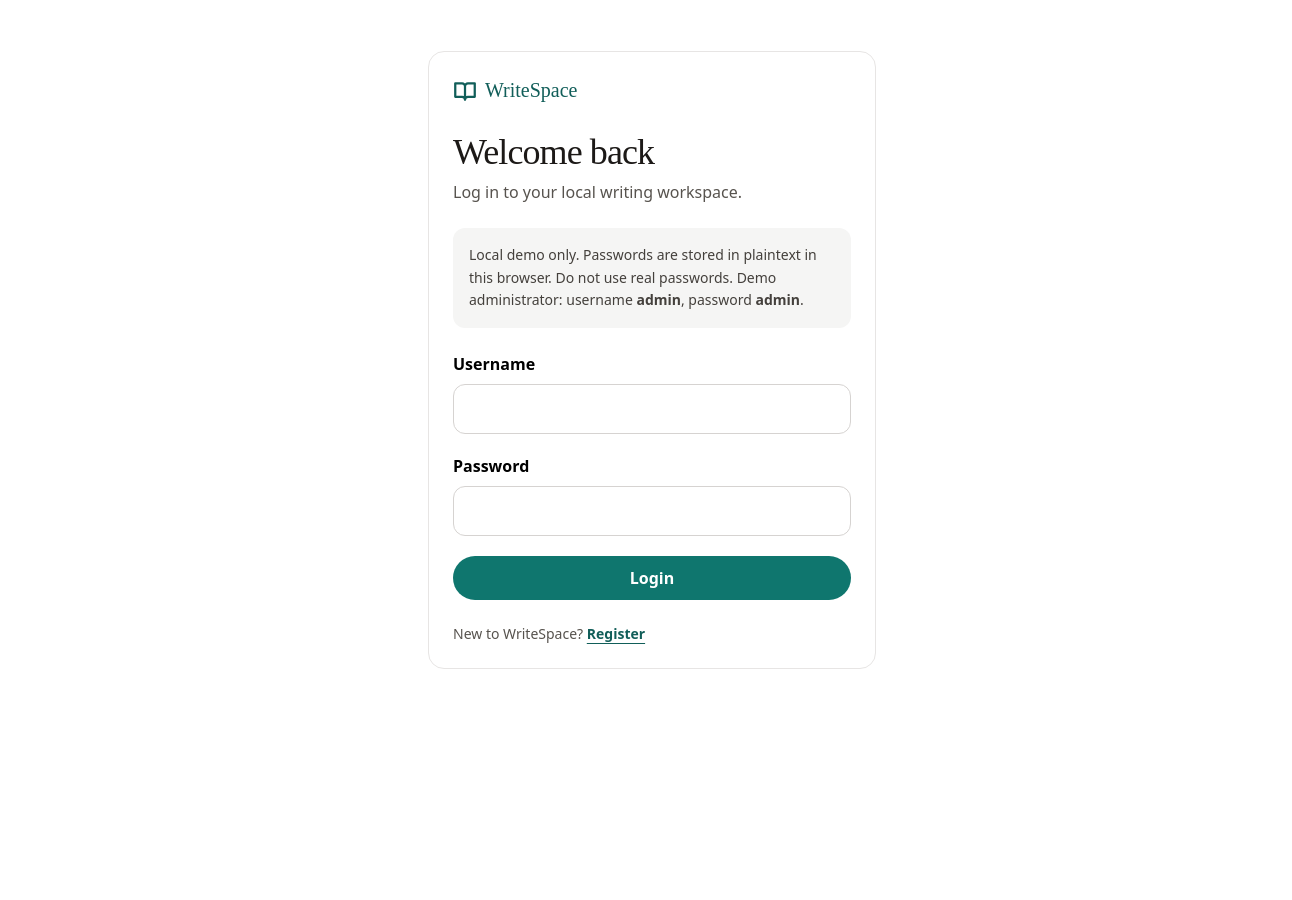
it: identity forms and destinations › submits missing login fields, displays associated errors, then rejects invalid credentials before valid admin login
Expected: the text "Do not use real passwords" is shown, [469, 245, 817, 287]
Click the button "Login": (652, 578) [453, 556, 851, 600]
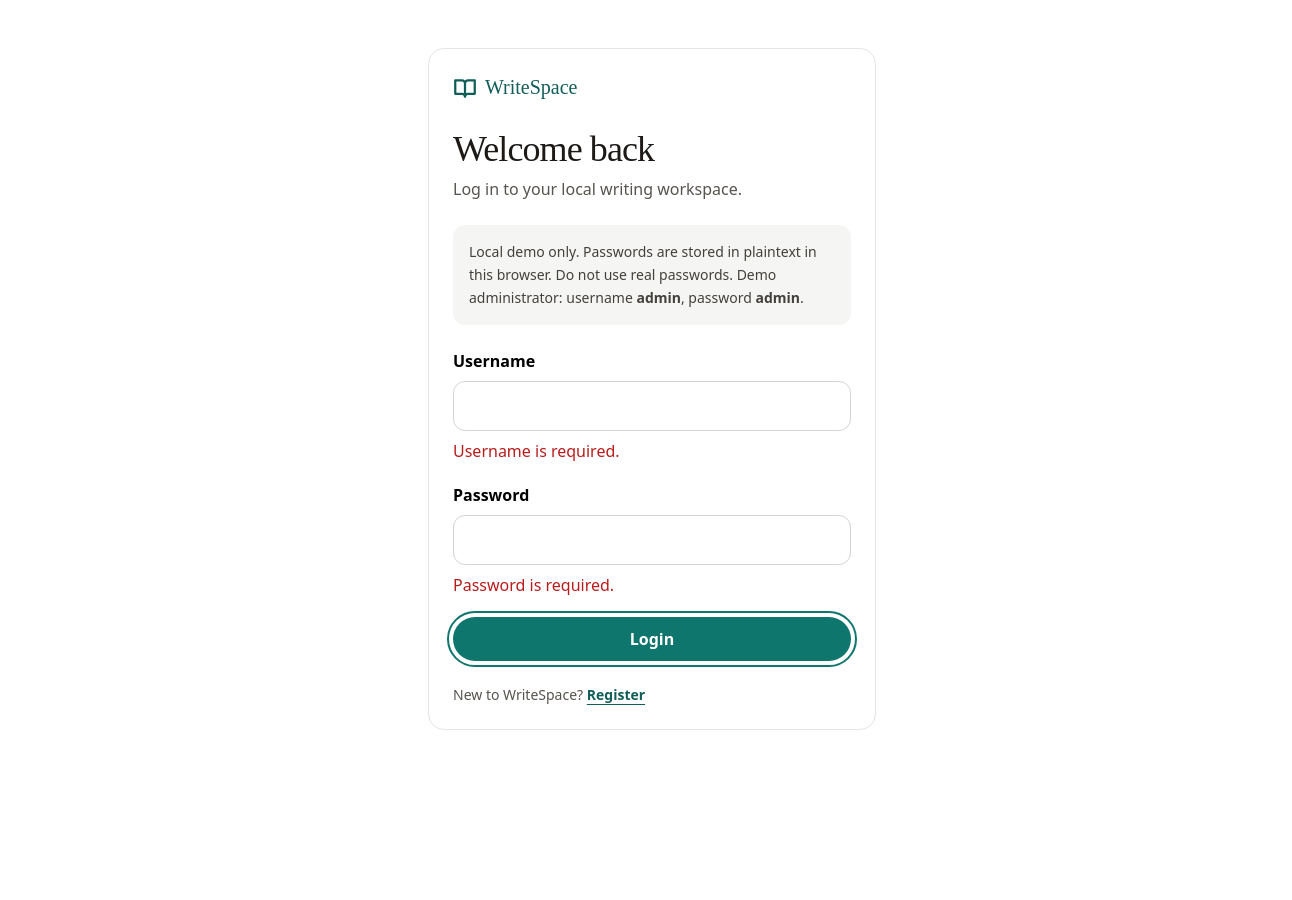
Expected: the field labelled "Username" is marked as invalid
In the field labelled "Username": (652, 406) [453, 381, 851, 431], type "admin"
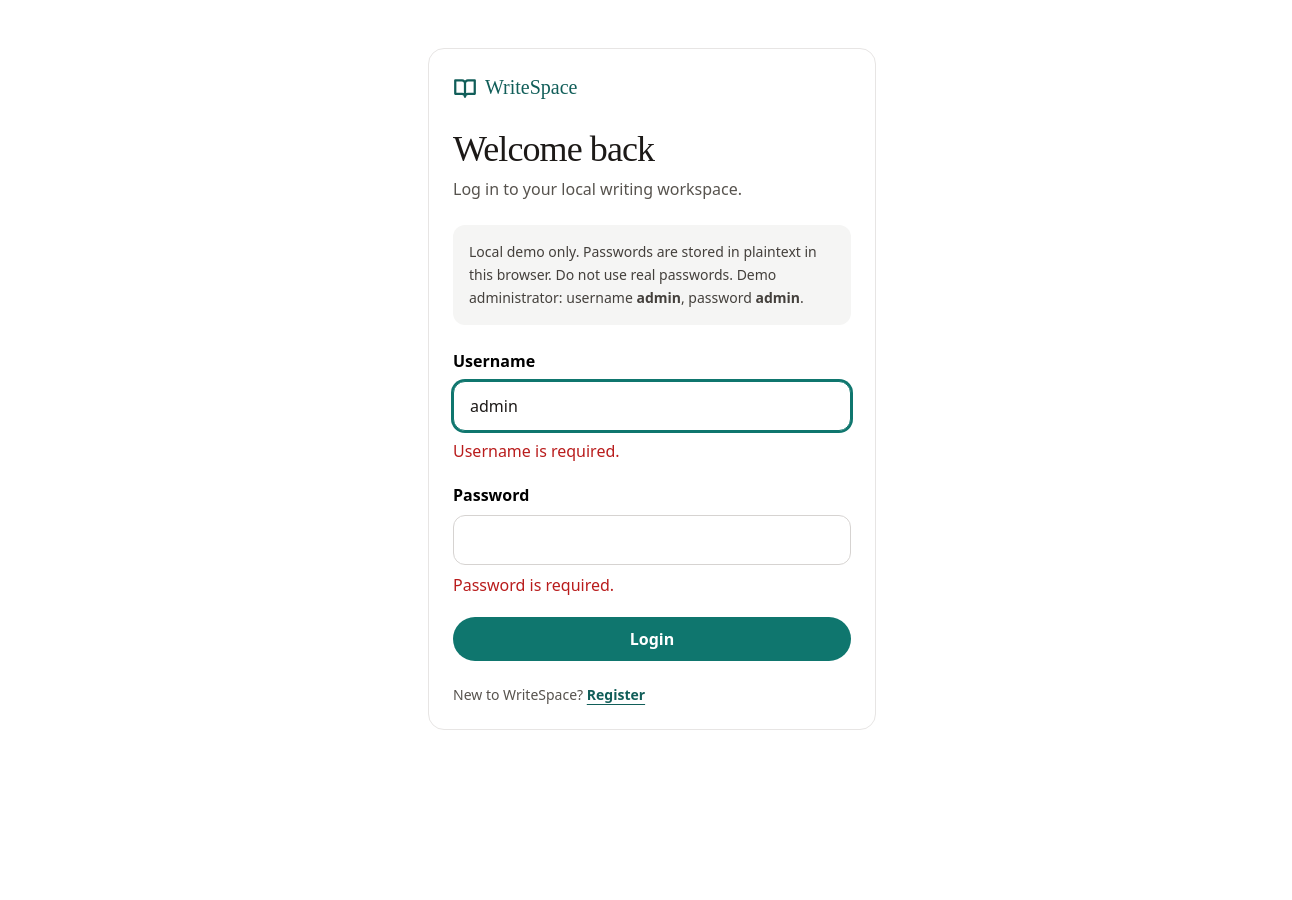
In the password field labelled "Password": (652, 540) [453, 515, 851, 565], type "wrong"
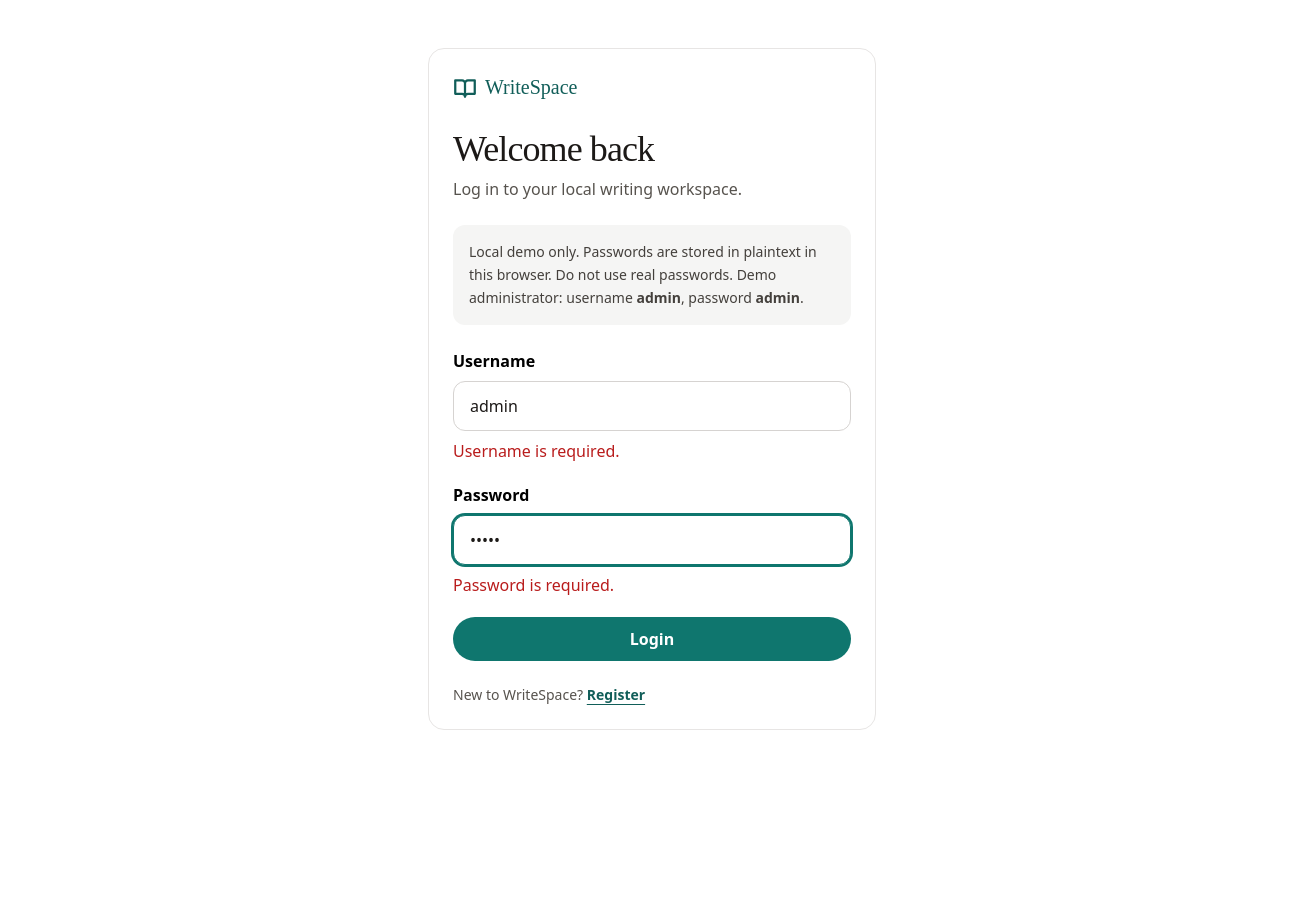
Click the button "Login": (652, 639) [453, 617, 851, 661]
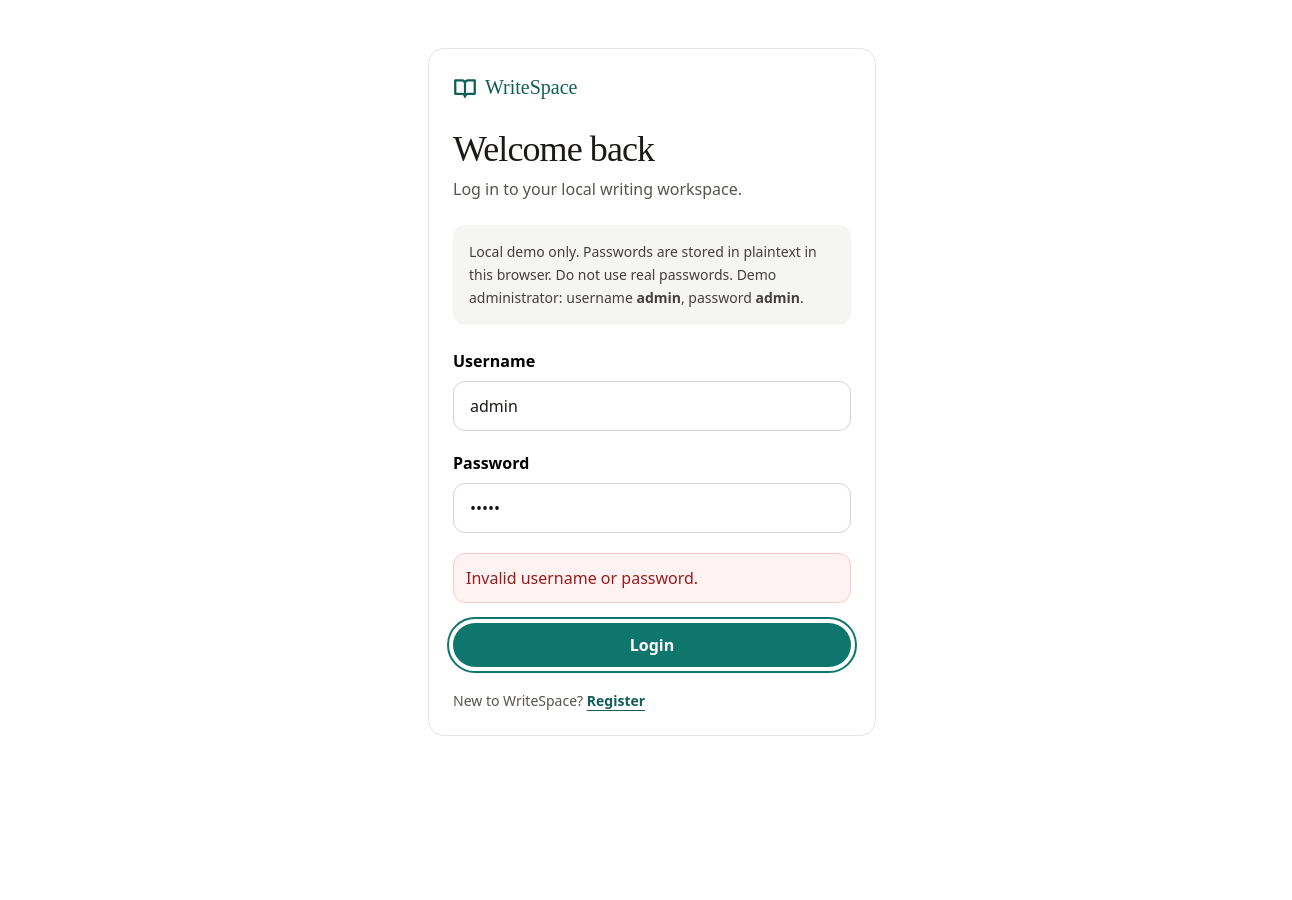
Expected: the message reads "Invalid username or password.", [466, 567, 698, 589]
In the password field labelled "Password": (652, 508) [453, 483, 851, 533], type "admin"
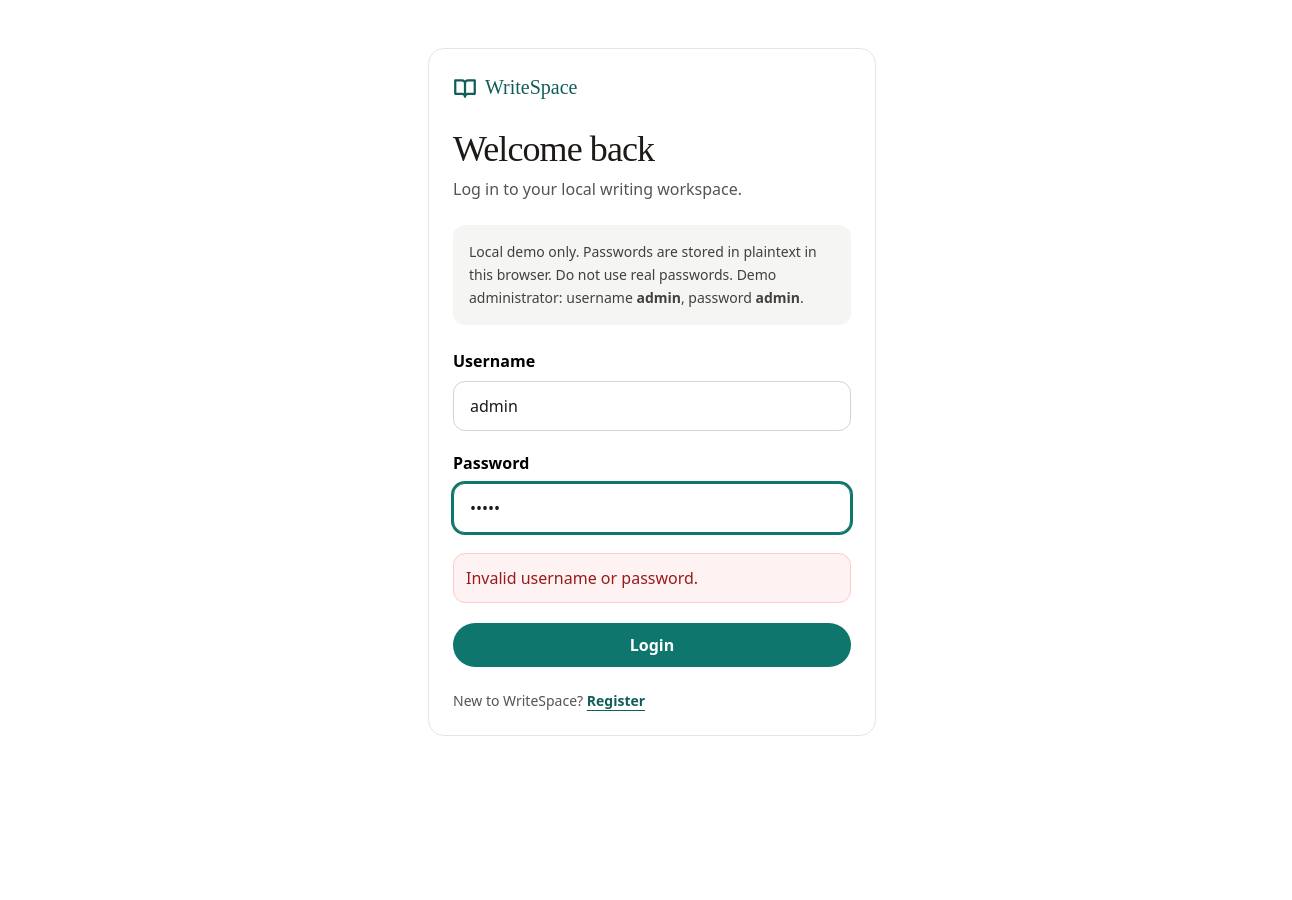
Click the button "Login": (652, 645) [453, 623, 851, 667]
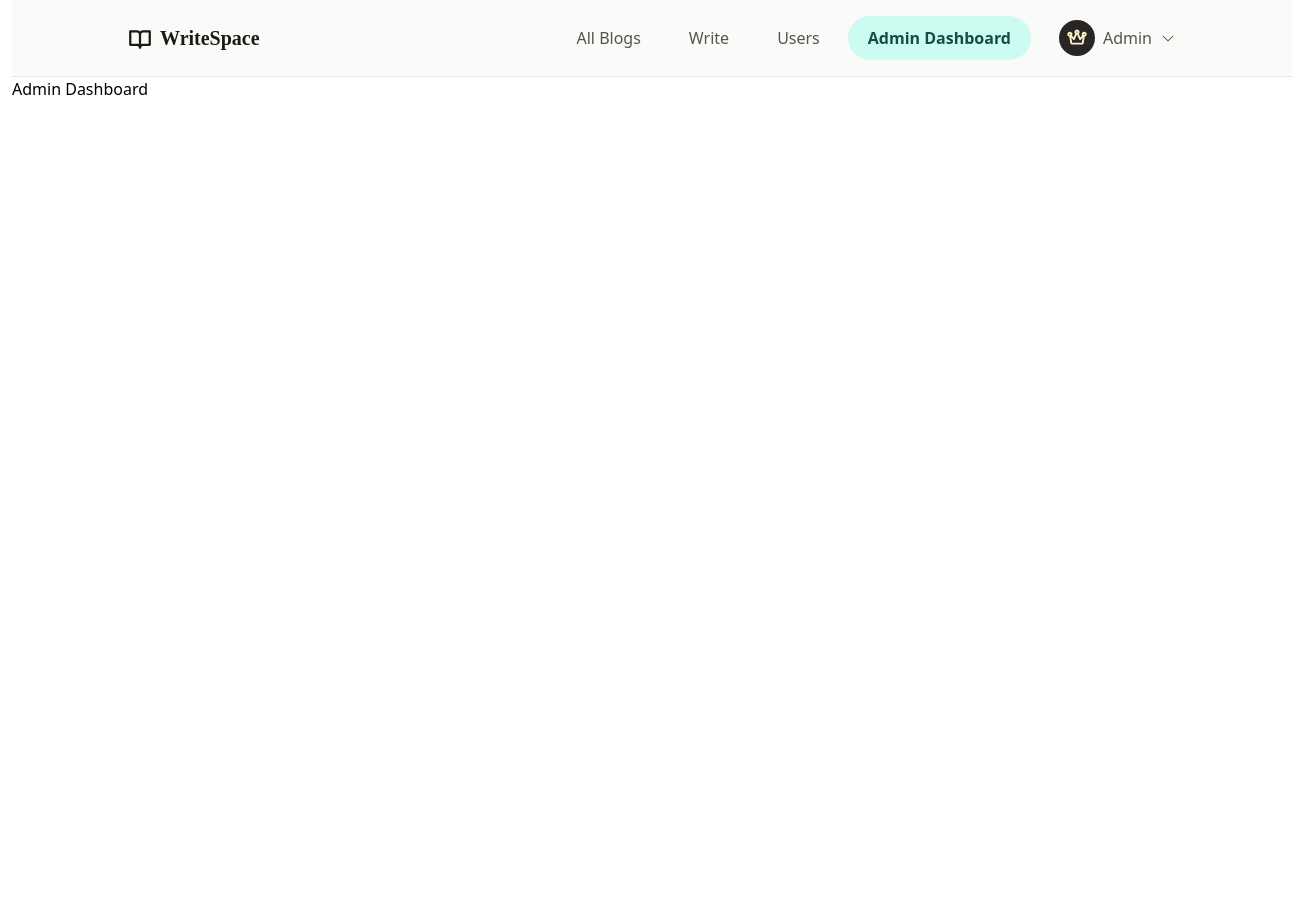
Expected: the heading "Admin Dashboard" is shown, [12, 78, 148, 100]
